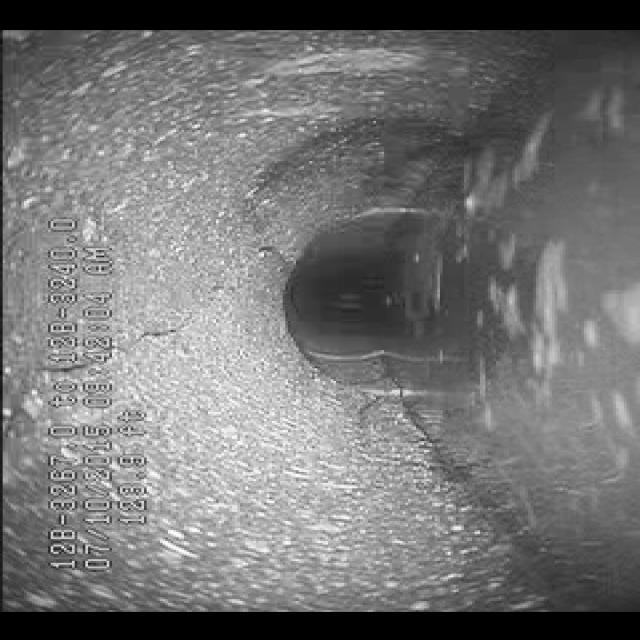Crack: (137, 240, 273, 354)
